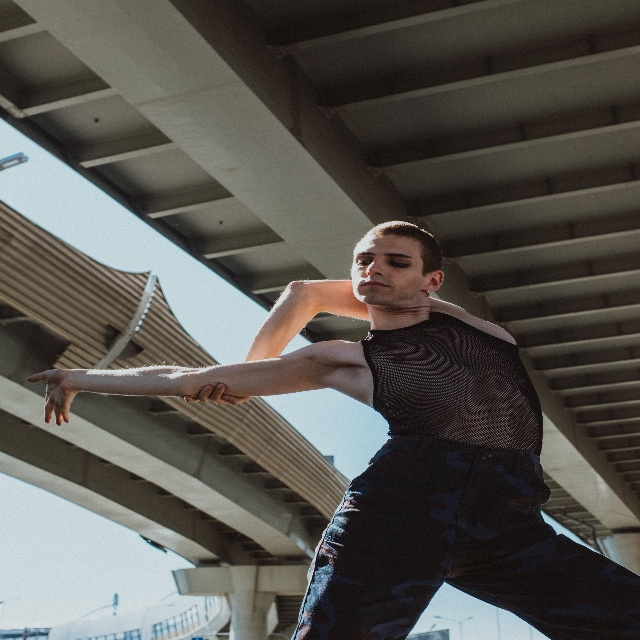Sin_guantes: (26, 365, 77, 425), (183, 386, 242, 415)
